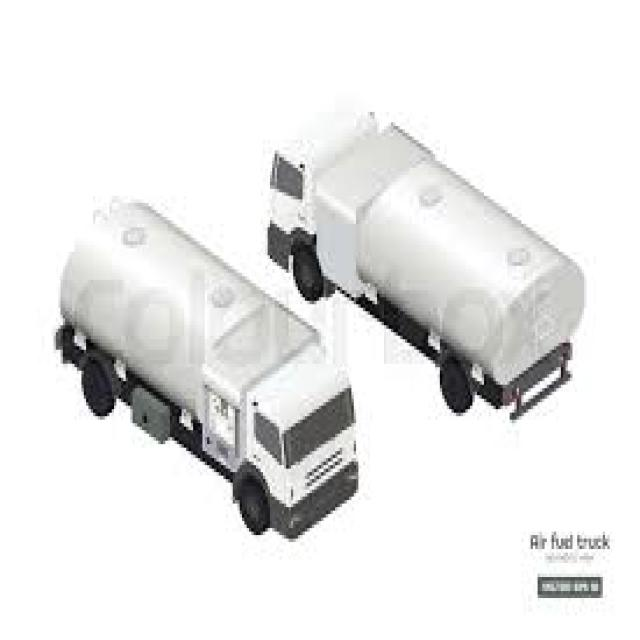truck: (58, 197, 362, 544), (269, 103, 590, 420)
